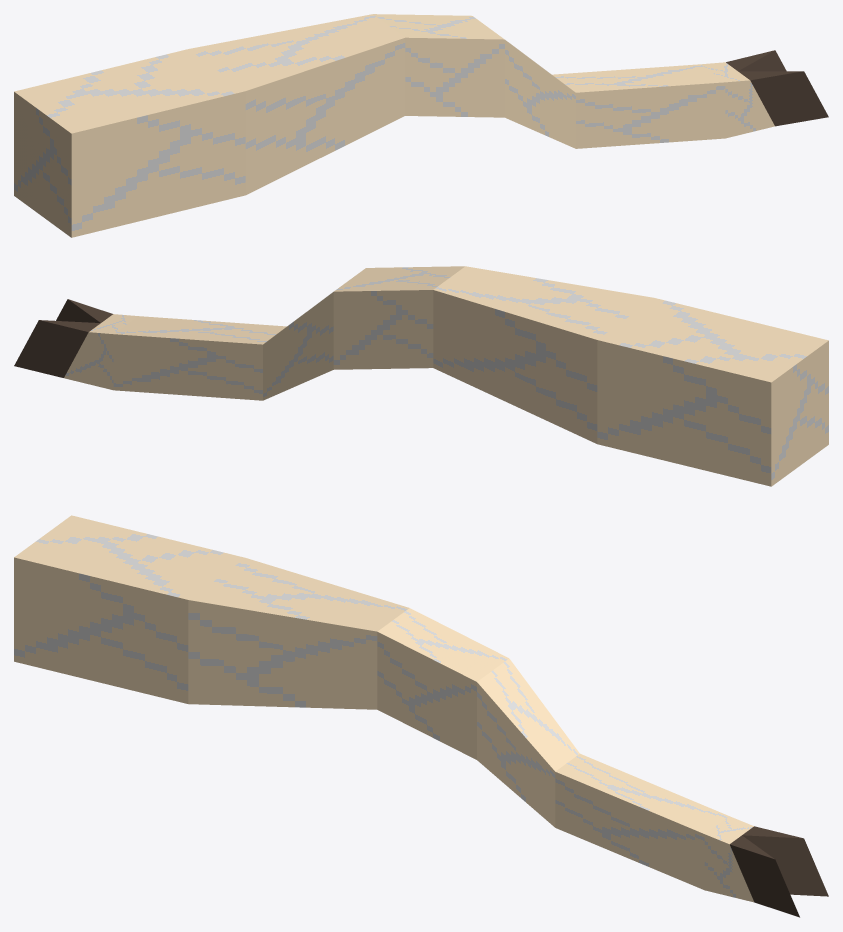
The model's file is leg.glb.
The picture shows the model from 3 angles, top to bottom: view 1: azimuth 30°, elevation 25°; view 2: azimuth 150°, elevation 25°; view 3: azimuth 330°, elevation 25°; orthographic projection.
Visible parts, largest first — view 1: Mesh_0.006; view 2: Mesh_0.006; view 3: Mesh_0.006.
Part boxes in pixels (x1=…): Mesh_0.006: x1=14, y1=14, x2=828, y2=237; Mesh_0.006: x1=14, y1=266, x2=828, y2=486; Mesh_0.006: x1=14, y1=515, x2=828, y2=917.
Size of the model in its own units: 7.75 by 1.75 by 1.
1 material, 1 textured.
